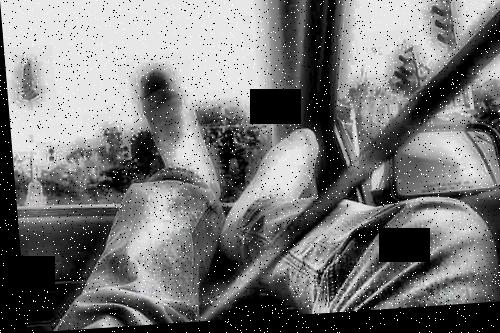seatbelt: (172, 32, 500, 306)
